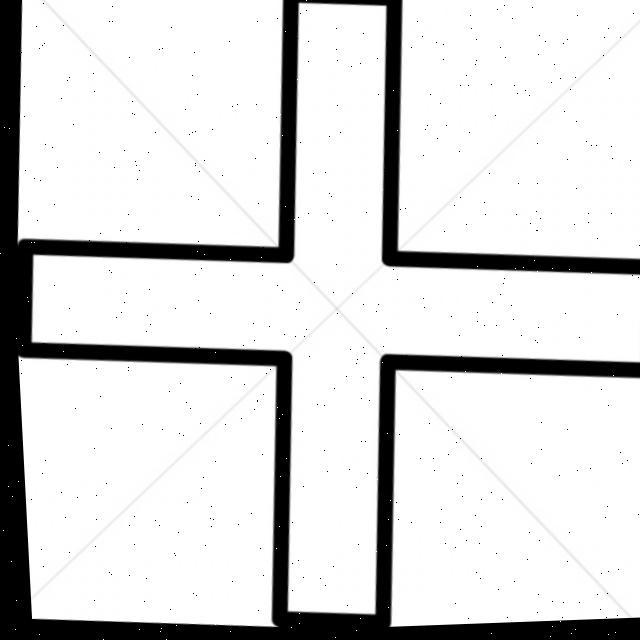cross: (26, 0, 640, 627)
